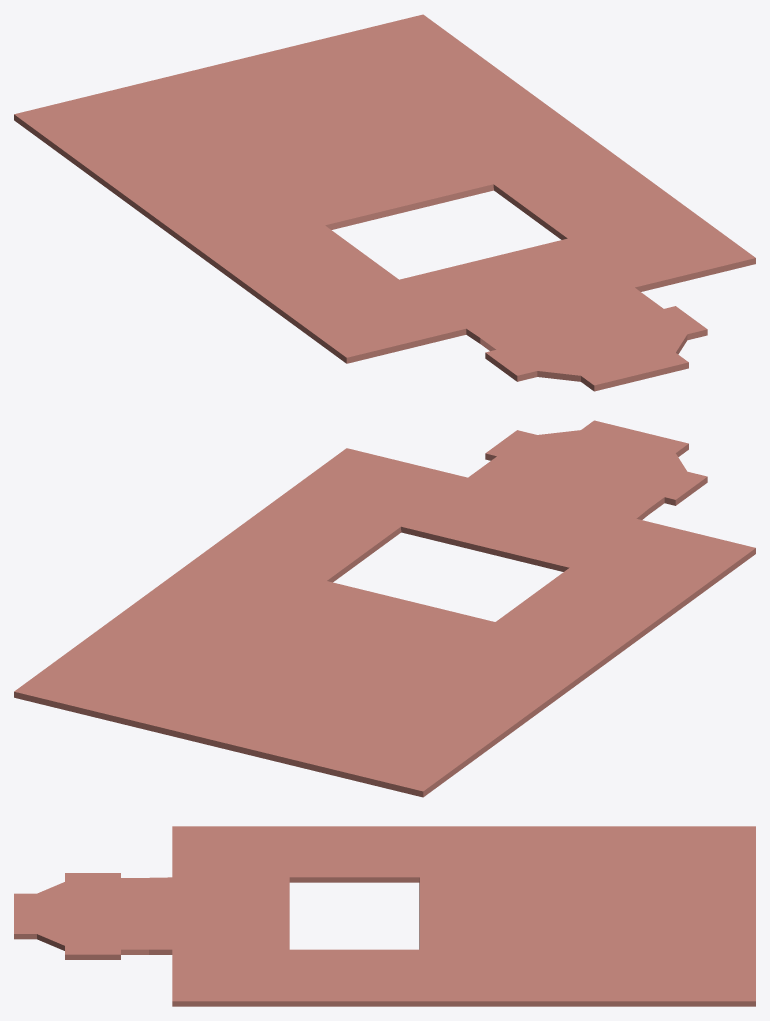
File: throne room.fbx
3 renders of one model, top to bottom at view 1: azimuth 30°, elevation 25°; view 2: azimuth 150°, elevation 25°; view 3: azimuth 270°, elevation 25°, orthographic. The views are drawn at different scales.
Parts seen in each view (by area): view 1: Box003; view 2: Box003; view 3: Box003.
Boxes of the visible parts, x1=… form: Box003: x1=14, y1=14, x2=755, y2=391; Box003: x1=14, y1=420, x2=755, y2=797; Box003: x1=14, y1=826, x2=755, y2=1006.
Bounding box in the file's own units: 439 × 6.21 × 786.
